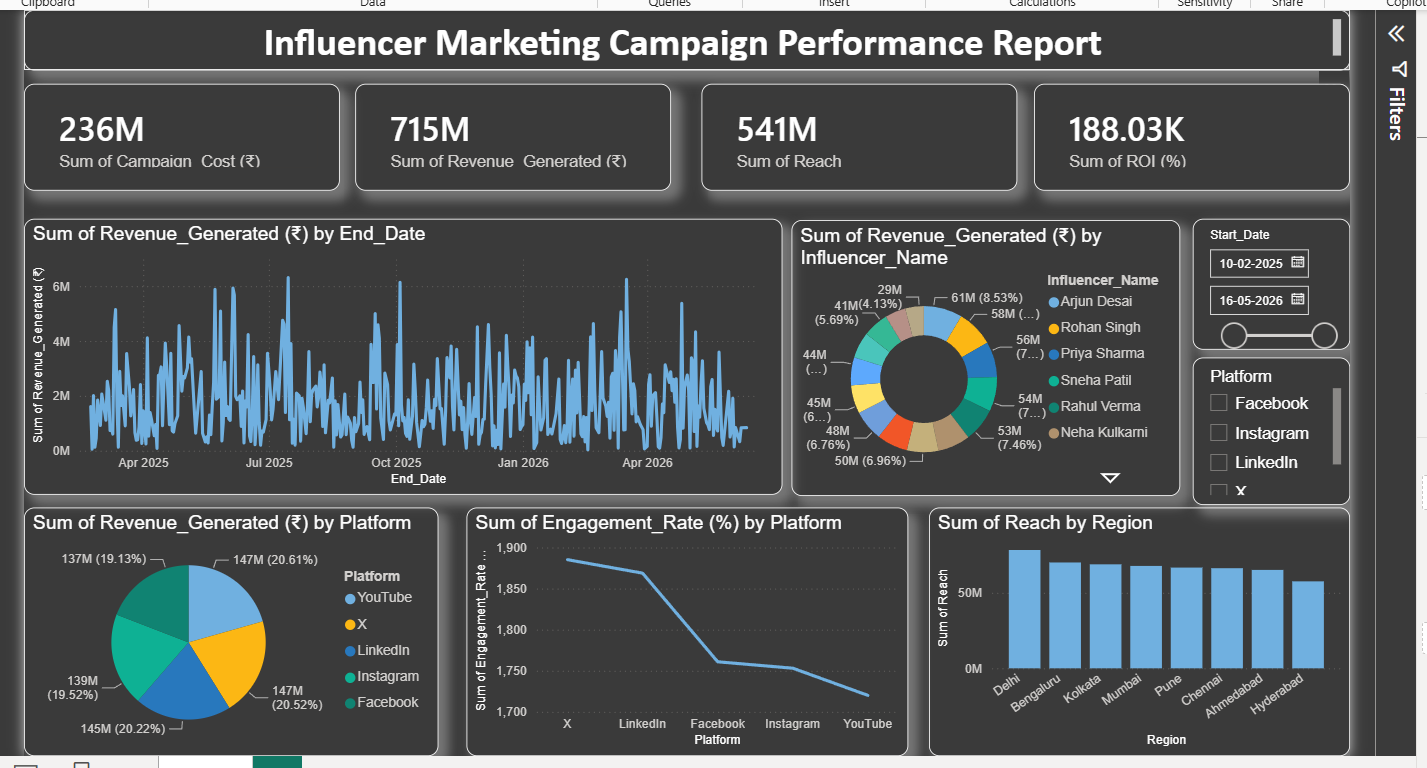

This screenshot's page, from the dashboard's own definition file:
{"tool":"powerbi","page":{"name":"Page 1","canvas":[1280,720],"ordinal":0},"visuals":[{"type":"columnChart","fields":{"Category":["Sheet1.Region"],"Y":["Sum(Sheet1.Reach)"]},"box":[873.3,480,406.7,240],"z":0},{"type":"donutChart","fields":{"Category":["Sheet1.Influencer_Name"],"Y":["Sum(Sheet1.Revenue_Generated (₹))"]},"box":[741,203,375,266],"z":1000},{"type":"pieChart","fields":{"Category":["Sheet1.Platform"],"Y":["Sum(Sheet1.Revenue_Generated (₹))"]},"box":[0,480,400,240],"z":2000},{"type":"lineChart","fields":{"Category":["Sheet1.Platform"],"Y":["Sum(Sheet1.Engagement_Rate (%))"]},"box":[426.7,480,426.7,240],"z":3000},{"type":"lineChart","fields":{"Category":["Sheet1.End_Date"],"Y":["Sum(Sheet1.Revenue_Generated (₹))"]},"box":[0,201.7,731.7,266.7],"z":4000},{"type":"textbox","box":[0,0,1280,58.3],"z":5000},{"type":"cardVisual","fields":{"Data":["Sum(Sheet1.Revenue_Generated (₹))"]},"box":[320,71.7,305,103.3],"z":6000},{"type":"cardVisual","fields":{"Data":["Sum(Sheet1.Campaign_Cost (₹))"]},"box":[0,71.7,305,103.3],"z":9001},{"type":"cardVisual","fields":{"Data":["Sum(Sheet1.Reach)"]},"box":[653.3,71.7,305,103.3],"z":9002},{"type":"cardVisual","fields":{"Data":["Sum(Sheet1.ROI (%))"]},"box":[975,71.7,305,103.3],"z":9003},{"type":"slicer","fields":{"Values":["Sheet1.Start_Date"]},"box":[1128,202,152,126],"z":9004},{"type":"slicer","fields":{"Values":["Sheet1.Platform"]},"box":[1128,335,152,142],"z":9005}]}

Visuals, with their boxes in screenshot pixels (x1, y1, x2, y2):
columnChart - Sheet1.Region x Sum(Sheet1.Reach): box=[969, 524, 1413, 767]
donutChart - Sheet1.Influencer_Name x Sum(Sheet1.Revenue_Generated (₹)): box=[824, 222, 1234, 512]
pieChart - Sheet1.Platform x Sum(Sheet1.Revenue_Generated (₹)): box=[15, 524, 452, 767]
lineChart - Sheet1.Platform x Sum(Sheet1.Engagement_Rate (%)): box=[481, 524, 947, 767]
lineChart - Sheet1.End_Date x Sum(Sheet1.Revenue_Generated (₹)): box=[15, 220, 814, 512]
textbox: box=[15, 0, 1413, 64]
cardVisual - Sum(Sheet1.Revenue_Generated (₹)): box=[364, 78, 698, 191]
cardVisual - Sum(Sheet1.Campaign_Cost (₹)): box=[15, 78, 348, 191]
cardVisual - Sum(Sheet1.Reach): box=[728, 78, 1062, 191]
cardVisual - Sum(Sheet1.ROI (%)): box=[1080, 78, 1413, 191]
slicer - Sheet1.Start_Date: box=[1247, 221, 1413, 358]
slicer - Sheet1.Platform: box=[1247, 366, 1413, 521]
